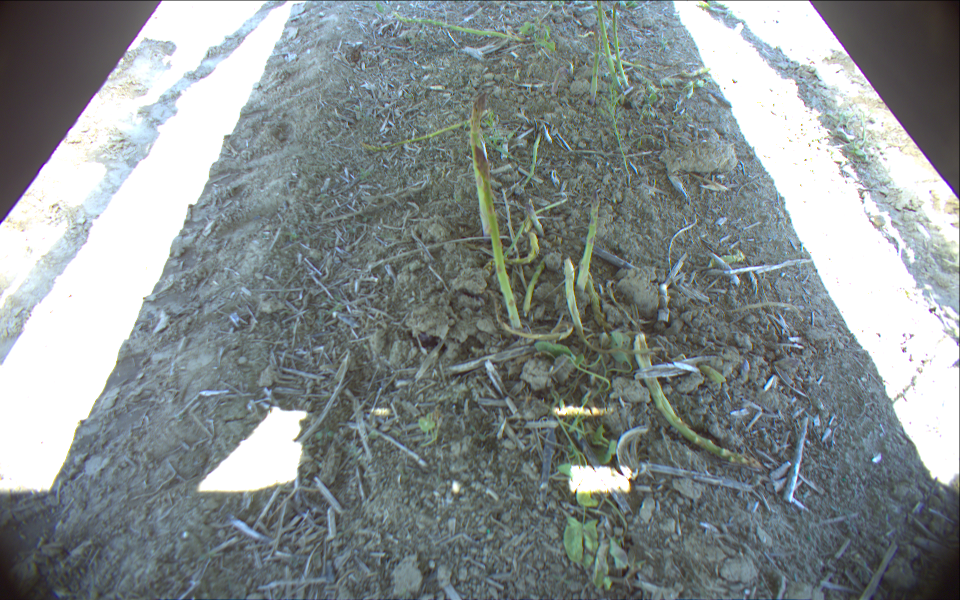aspa: (471, 141, 525, 333), (465, 91, 503, 239), (573, 187, 602, 297), (594, 1, 621, 94), (609, 1, 635, 90), (586, 22, 600, 100)
